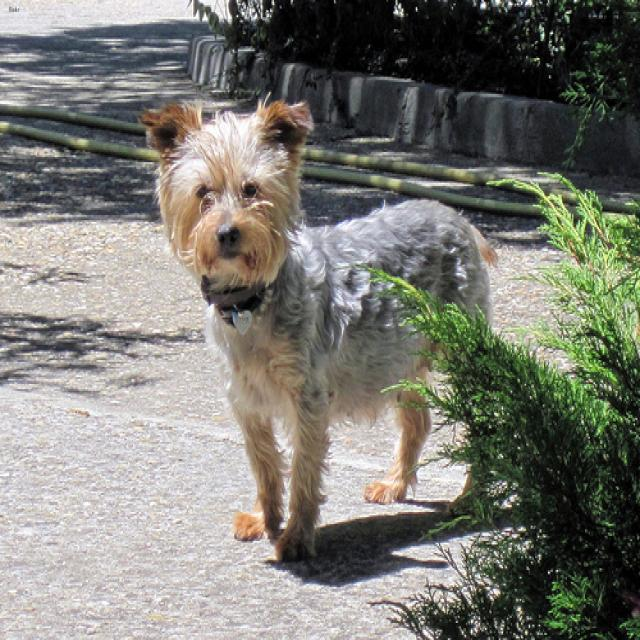dog-yorkshire_terrier: (134, 85, 503, 570)
